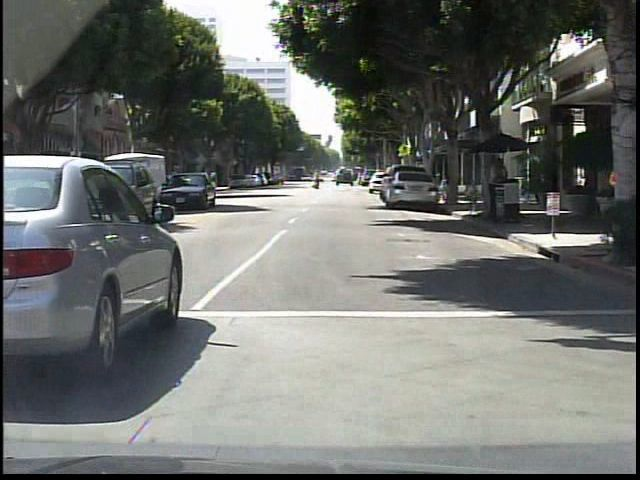person: (491, 158, 512, 224), (608, 163, 625, 236), (313, 172, 323, 192)
